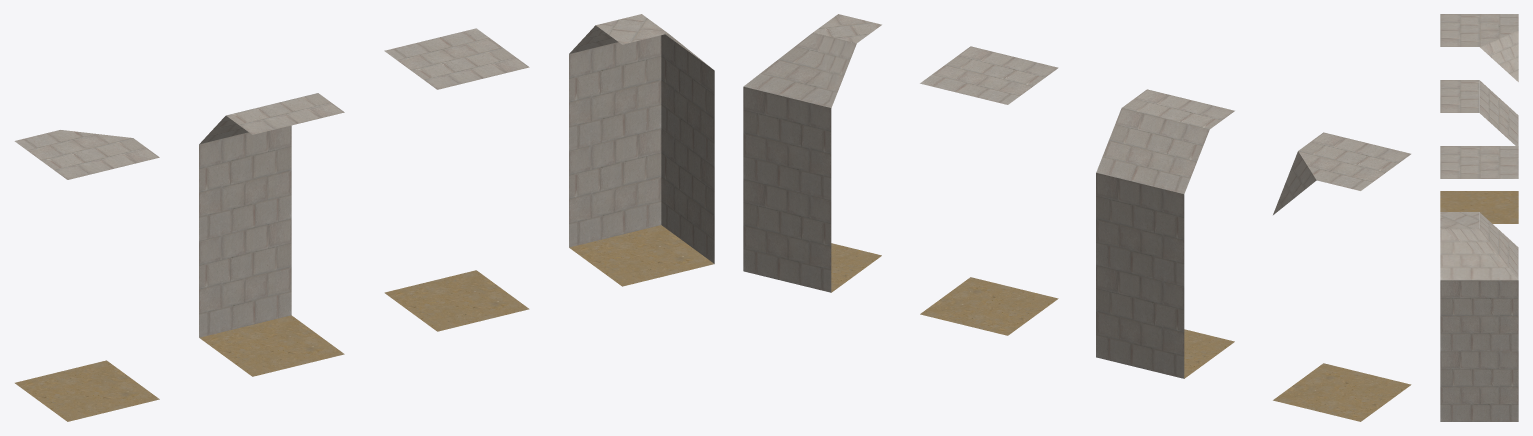
The picture shows the model from 3 angles, left to right: view 1: azimuth 30°, elevation 25°; view 2: azimuth 150°, elevation 25°; view 3: azimuth 270°, elevation 25°; orthographic projection. The views are drawn at different scales.
Parts seen in each view (by area): view 1: wall3-col, wall1-col, wall2-col, wall4-col; view 2: wall1-col, wall3-col, wall4-col, wall2-col; view 3: wall3-col, wall4-col, wall1-col, wall2-col.
Boxes of the visible parts, x1,y1,x2,y2 form: wall3-col: (569, 14, 714, 286); wall1-col: (199, 93, 344, 376); wall2-col: (384, 28, 529, 331); wall4-col: (14, 130, 159, 421); wall1-col: (1096, 89, 1234, 378); wall3-col: (743, 14, 881, 292); wall4-col: (1273, 132, 1411, 421); wall2-col: (920, 46, 1058, 335); wall3-col: (1440, 212, 1518, 421); wall4-col: (1440, 14, 1518, 223); wall1-col: (1440, 80, 1518, 145); wall2-col: (1440, 146, 1518, 178).
Bounding box in the file's own units: 7 × 2.5 × 1.
1 material, 1 textured.
